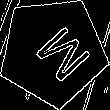M_SW: (19, 17, 87, 85)
